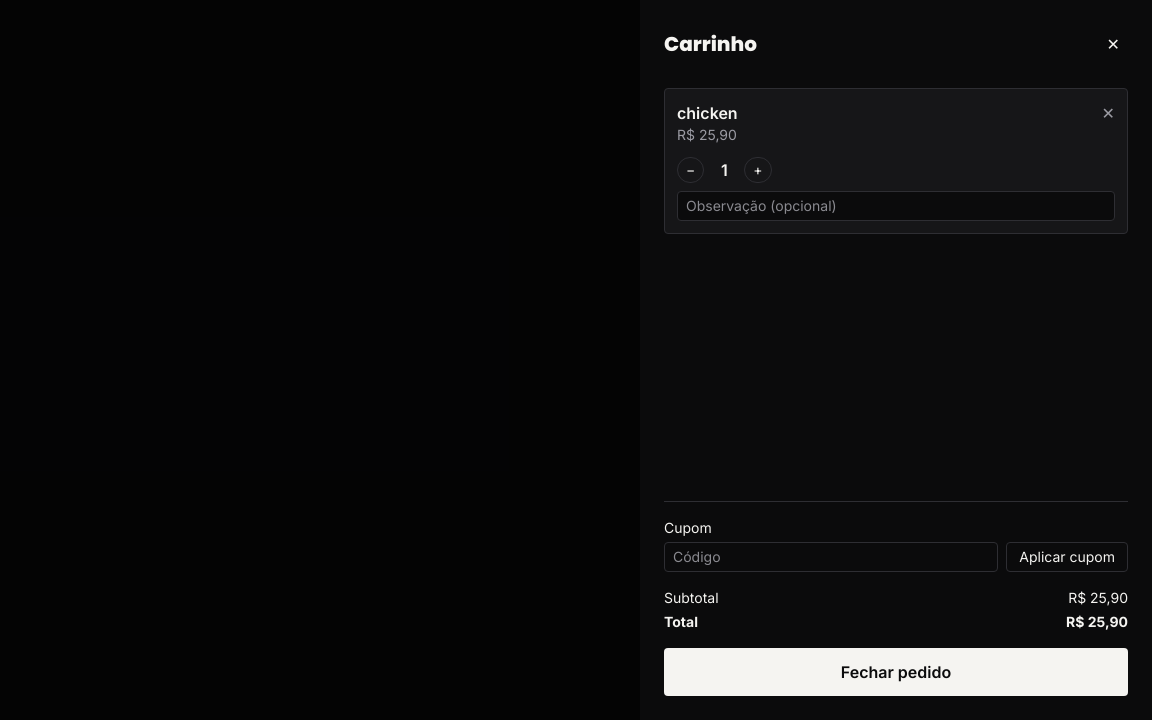
Scenario: CartDrawer › cupom inválido mostra mensagem de erro
Type "XYZ" into the field labelled "Cupom" at x=831, y=557, box [664,542,998,572]
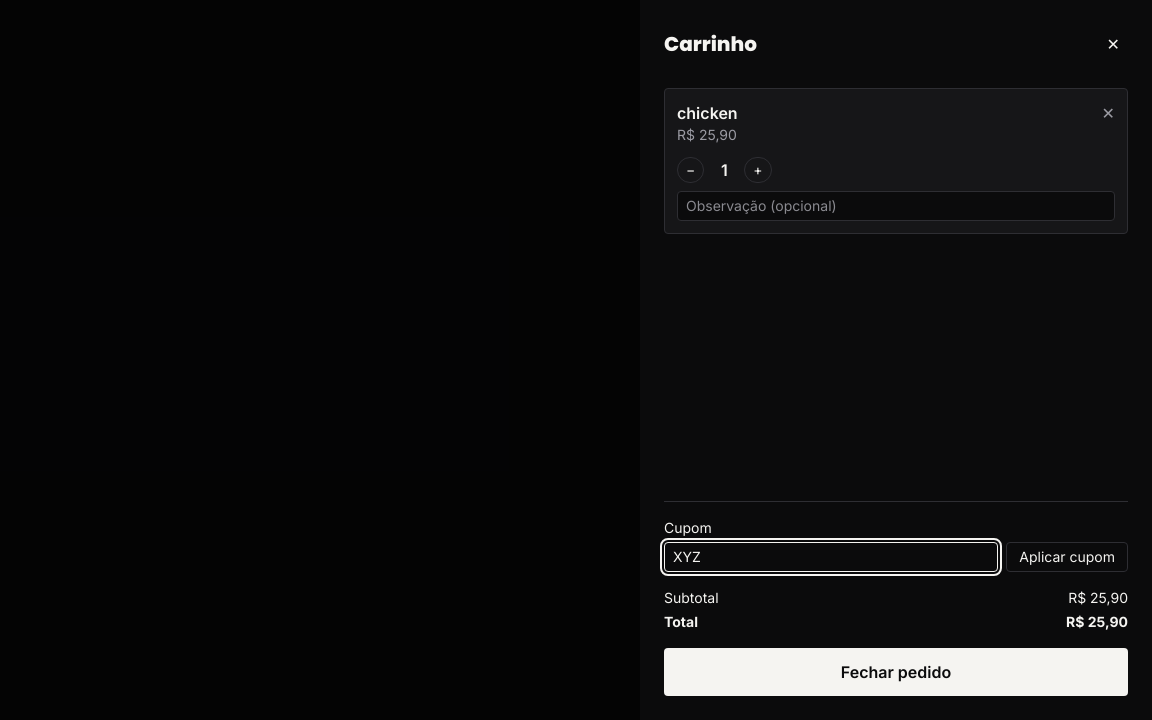
Click the button "Aplicar cupom" at x=1067, y=557, box [1006,542,1128,572]
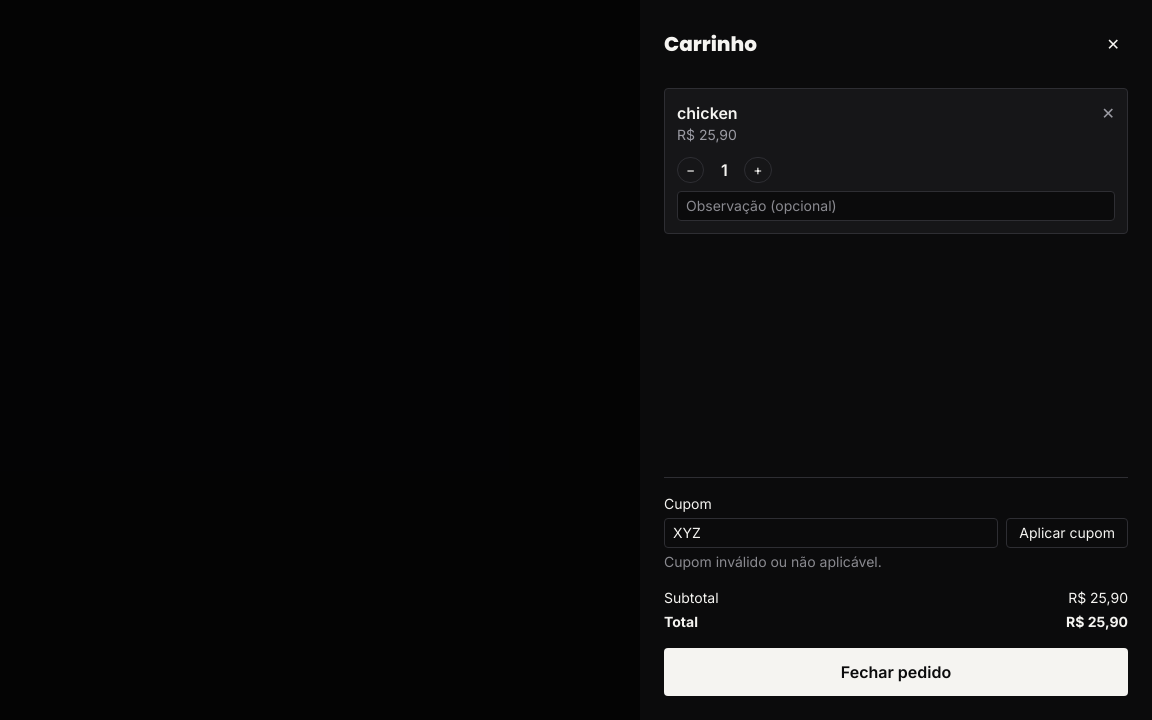
expect the text "Cupom inválido ou não aplicável." is shown: met, box [664,553,882,570]
